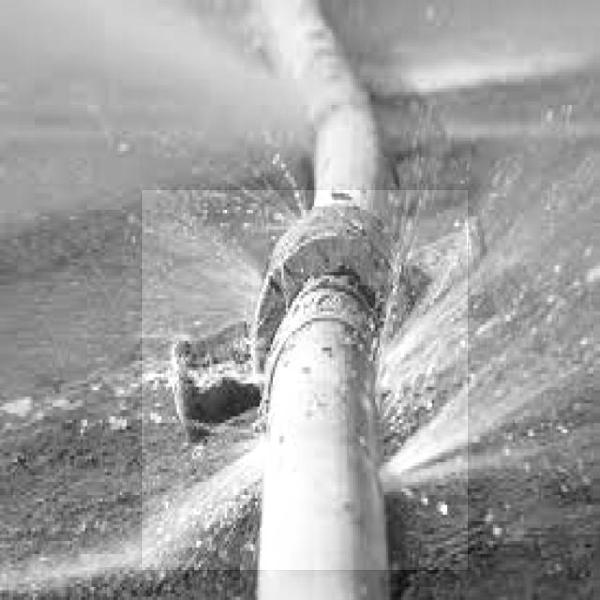pipe burst: (365, 139, 576, 501), (132, 130, 313, 339), (135, 435, 276, 563), (158, 363, 280, 392)
